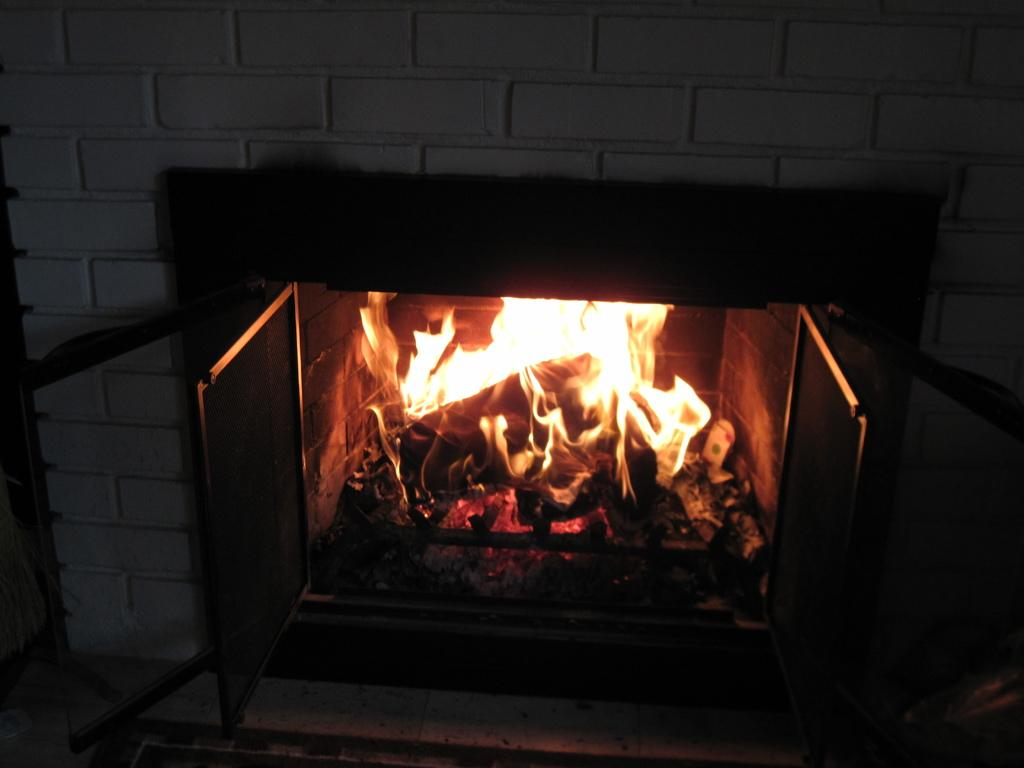Fire: (319, 290, 750, 513)
